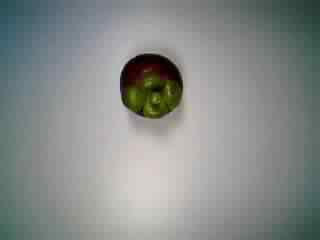mangosteen: (112, 44, 189, 123)
